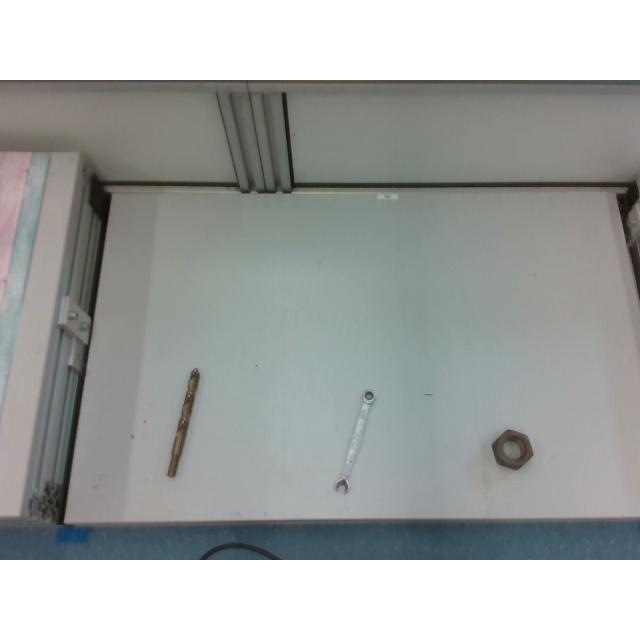Drill: (167, 368, 199, 476)
M30: (491, 427, 533, 469)
Wrench: (334, 391, 374, 494)
